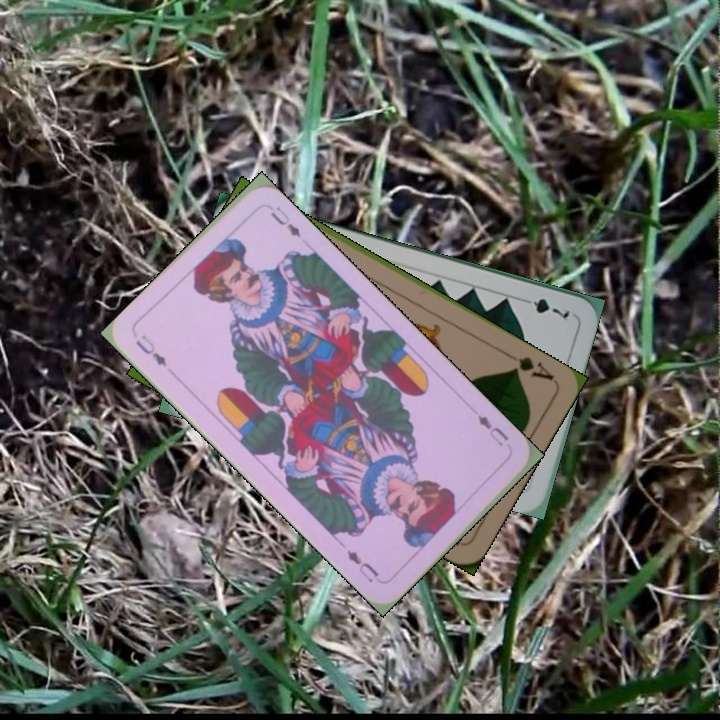EU: (473, 410, 512, 449), (131, 330, 169, 370)
G7: (516, 294, 573, 322)
GA: (502, 349, 557, 384)
